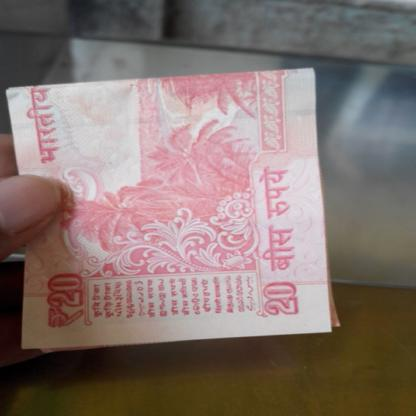Old20Back: (6, 75, 311, 331)
